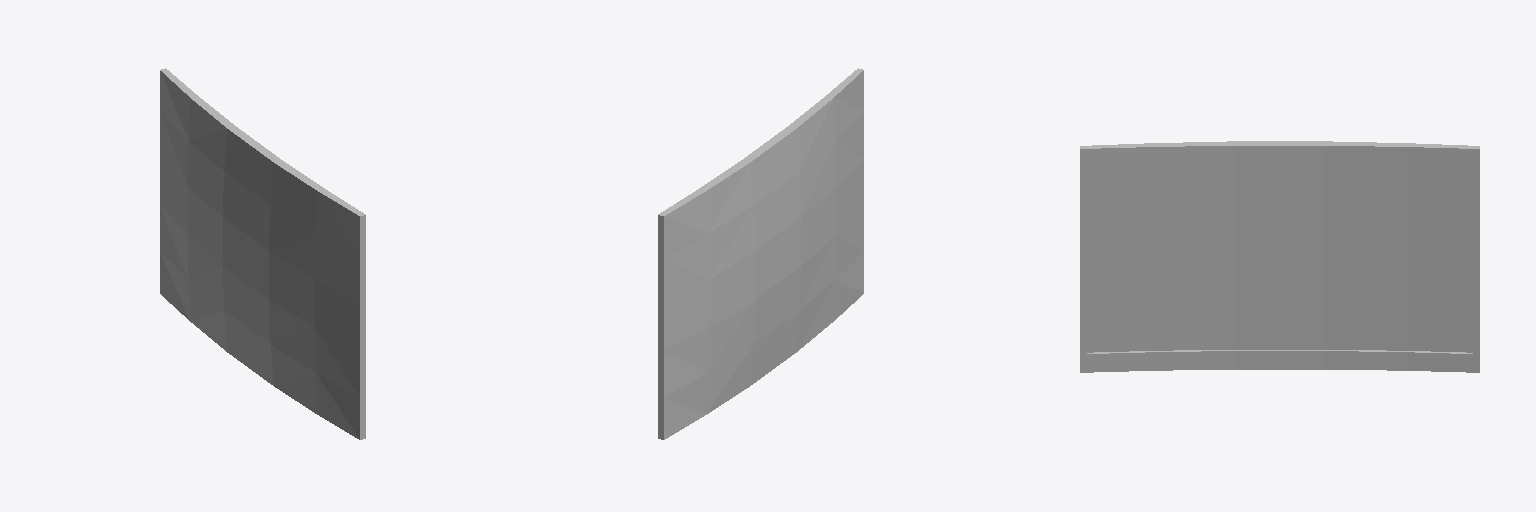
File: CurvedScreen_Top.obj
The picture shows the model from 3 angles: view 1: azimuth 30°, elevation 25°; view 2: azimuth 150°, elevation 25°; view 3: azimuth 270°, elevation 25°; orthographic projection.
Bounding box in the file's own units: 0.0354 × 0.37 × 0.6.